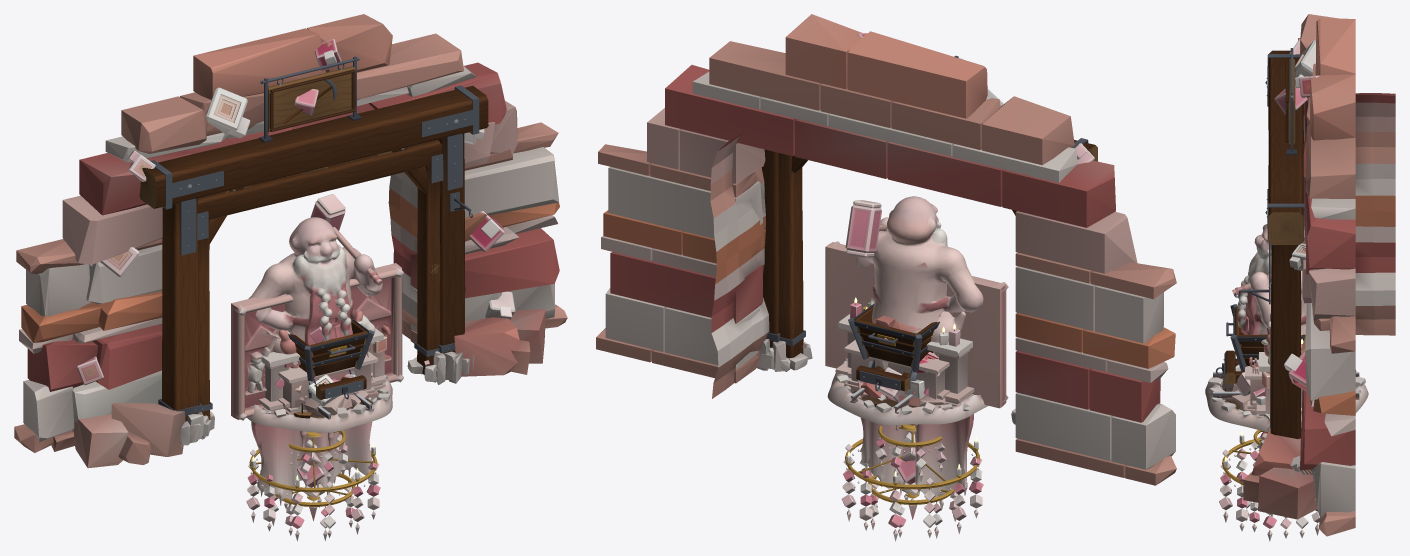
File: salt-mine-kit.glb
3 renders of one model, left to right at view 1: azimuth 30°, elevation 25°; view 2: azimuth 150°, elevation 25°; view 3: azimuth 270°, elevation 25°, orthographic. The views are drawn at different scales.
Parts seen in each view (by area): view 1: MinePortal, TimberSet, StatueBrann, ChapelRelief, SaltChandelier, SaltDrapery, MineCart, BrineRim, CarversBench, StatueGoat, RubblePile; view 2: MinePortal, StatueBrann, ChapelRelief, SaltChandelier, TimberSet, SaltDrapery, MineCart, BrineRim, CarversBench, SaltCluster, StatueGoat; view 3: MinePortal, StatueBrann, SaltChandelier, BrineRim, MineCart, StatueGoat, SaltCluster, RailStraight, CarversBench, RubblePile.
Part boxes in pixels (<box>): MinePortal: <box>14,14,567,468</box>; TimberSet: <box>197,140,443,436</box>; StatueBrann: <box>248,194,382,414</box>; ChapelRelief: <box>231,263,403,420</box>; SaltChandelier: <box>246,430,380,541</box>; SaltDrapery: <box>251,421,372,505</box>; MineCart: <box>288,319,374,399</box>; BrineRim: <box>247,375,392,432</box>; CarversBench: <box>261,328,384,401</box>; StatueGoat: <box>259,309,386,413</box>; RubblePile: <box>283,390,369,414</box>; MinePortal: <box>596,14,1176,485</box>; StatueBrann: <box>844,196,983,407</box>; ChapelRelief: <box>825,241,1008,408</box>; SaltChandelier: <box>841,424,983,541</box>; TimberSet: <box>769,153,1015,424</box>; SaltDrapery: <box>860,414,973,505</box>; MineCart: <box>848,304,940,391</box>; BrineRim: <box>827,358,988,425</box>; CarversBench: <box>838,297,972,393</box>; SaltCluster: <box>857,352,945,406</box>; StatueGoat: <box>835,295,974,406</box>; MinePortal: <box>1234,14,1395,536</box>; StatueBrann: <box>1232,224,1306,414</box>; SaltChandelier: <box>1219,430,1319,541</box>; BrineRim: <box>1205,376,1368,431</box>; MineCart: <box>1215,304,1356,384</box>; StatueGoat: <box>1256,327,1301,418</box>; SaltCluster: <box>1228,364,1265,411</box>; RailStraight: <box>1213,372,1359,409</box>; CarversBench: <box>1259,338,1303,407</box>; RubblePile: <box>1222,377,1250,410</box>.
Size of the model in its own units: 8.57 by 7.13 by 2.61.
6 materials, 1 textured.
